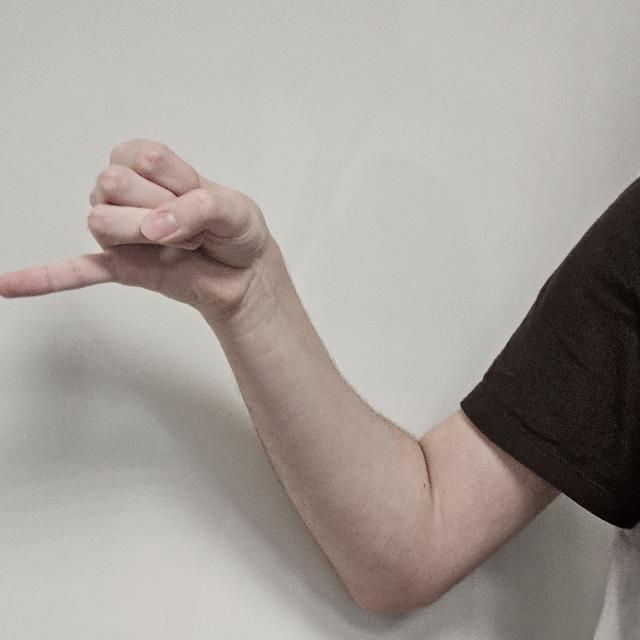Esquerda: (4, 120, 274, 370)
